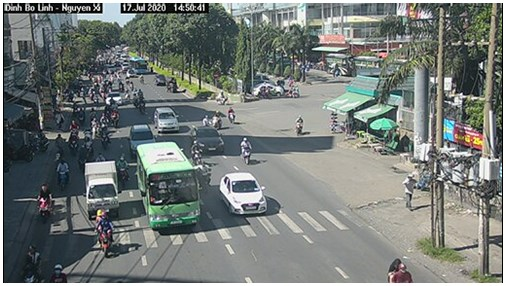xe_ba_gac: (164, 76, 180, 94)
xe_buyt: (129, 55, 147, 75)
xe_hoi: (220, 170, 269, 219), (125, 123, 156, 156), (154, 107, 181, 136), (107, 90, 125, 106), (154, 71, 166, 87)
xe_may: (92, 208, 116, 255), (382, 252, 417, 282), (35, 181, 54, 224), (21, 245, 39, 282), (56, 157, 73, 190), (48, 258, 70, 283), (52, 132, 67, 161), (241, 134, 255, 164), (67, 129, 79, 157), (294, 115, 309, 137), (191, 140, 202, 169), (118, 154, 128, 184), (100, 127, 112, 151), (90, 89, 102, 112), (108, 105, 120, 127), (84, 132, 93, 159), (214, 108, 224, 131), (98, 112, 110, 129), (89, 116, 99, 136), (228, 103, 236, 126), (67, 117, 77, 133), (138, 95, 145, 115), (204, 111, 210, 126)
